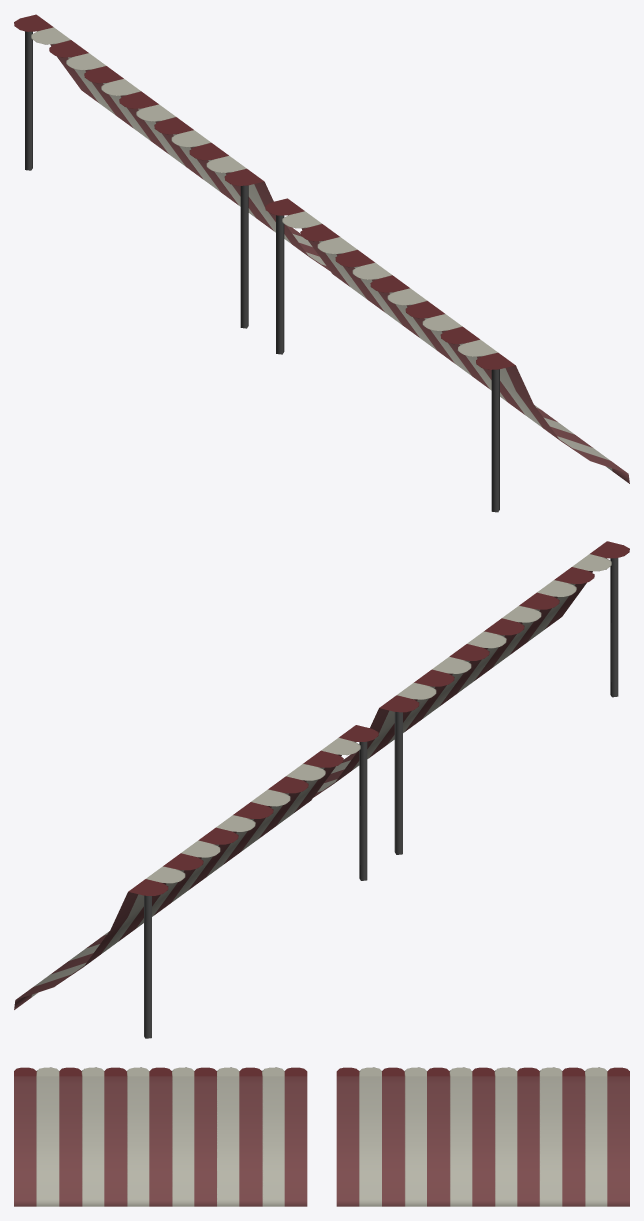
The picture shows the model from 3 angles, top to bottom: view 1: azimuth 30°, elevation 25°; view 2: azimuth 150°, elevation 25°; view 3: azimuth 270°, elevation 25°; orthographic projection. The views are drawn at different scales.
Parts seen in each view (by area): view 1: Awning__1_; view 2: Awning__1_; view 3: Awning__1_.
Boxes of the visible parts, x1,y1,x2,y2 form: Awning__1_: (14, 14, 629, 512); Awning__1_: (14, 541, 629, 1038); Awning__1_: (14, 1067, 629, 1206).
Size of the model in its own units: 64.63 by 63.42 by 376.
Materials: 1 (1 with a texture image).
